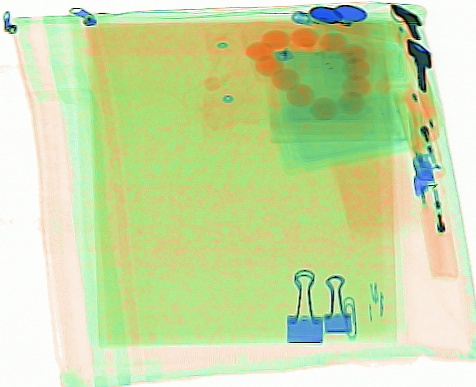lighter: (392, 85, 448, 182), (412, 170, 461, 280), (290, 8, 388, 41)
